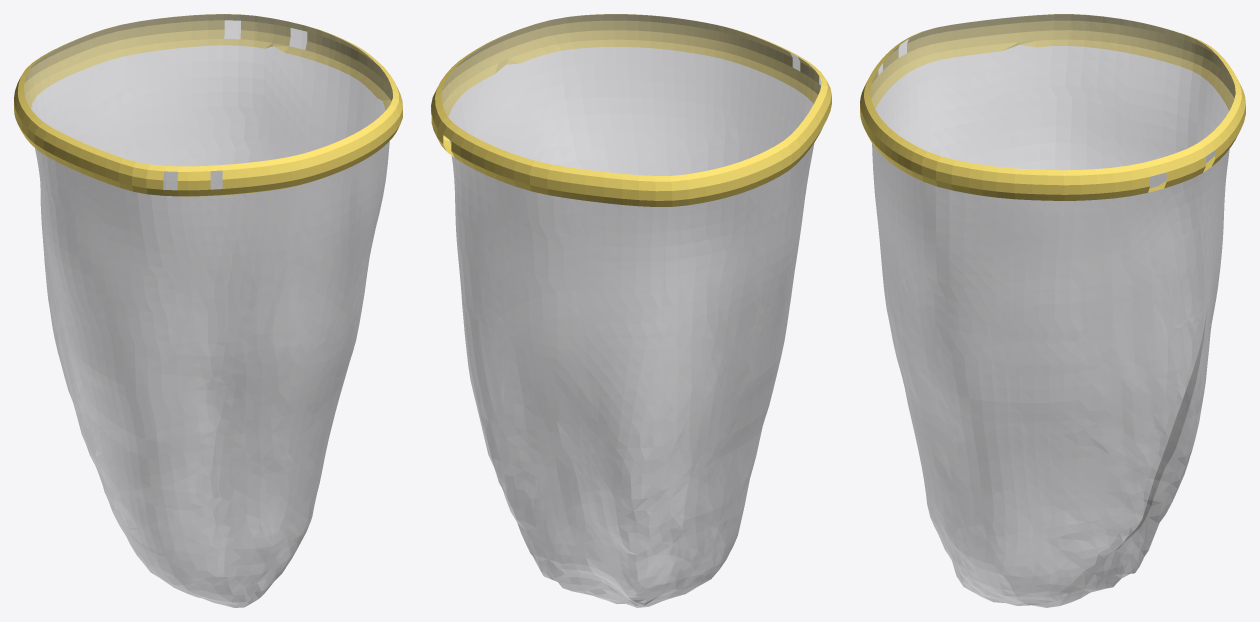
File: trashbag_rope.glb
The picture shows the model from 3 angles, left to right: view 1: azimuth 30°, elevation 25°; view 2: azimuth 150°, elevation 25°; view 3: azimuth 270°, elevation 25°; orthographic projection. The views are drawn at different scales.
Visible parts, largest first — view 1: bag, channel; view 2: bag, channel; view 3: bag, channel.
Part boxes in pixels (box(x1,y1,x2,y2)): bag: box(24, 14, 392, 607); channel: box(14, 14, 402, 196); bag: box(441, 14, 821, 607); channel: box(431, 14, 831, 206); bag: box(870, 14, 1235, 607); channel: box(860, 14, 1245, 200).
Size of the model in its own units: 0.3642 by 0.5238 by 0.3604.
